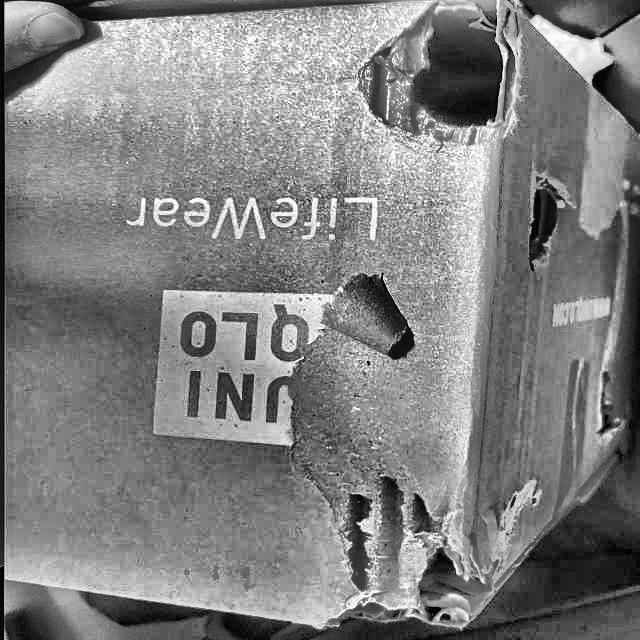box: (0, 0, 640, 639)
hole: (372, 4, 538, 150), (393, 540, 497, 619), (514, 176, 578, 276), (594, 361, 632, 451)
